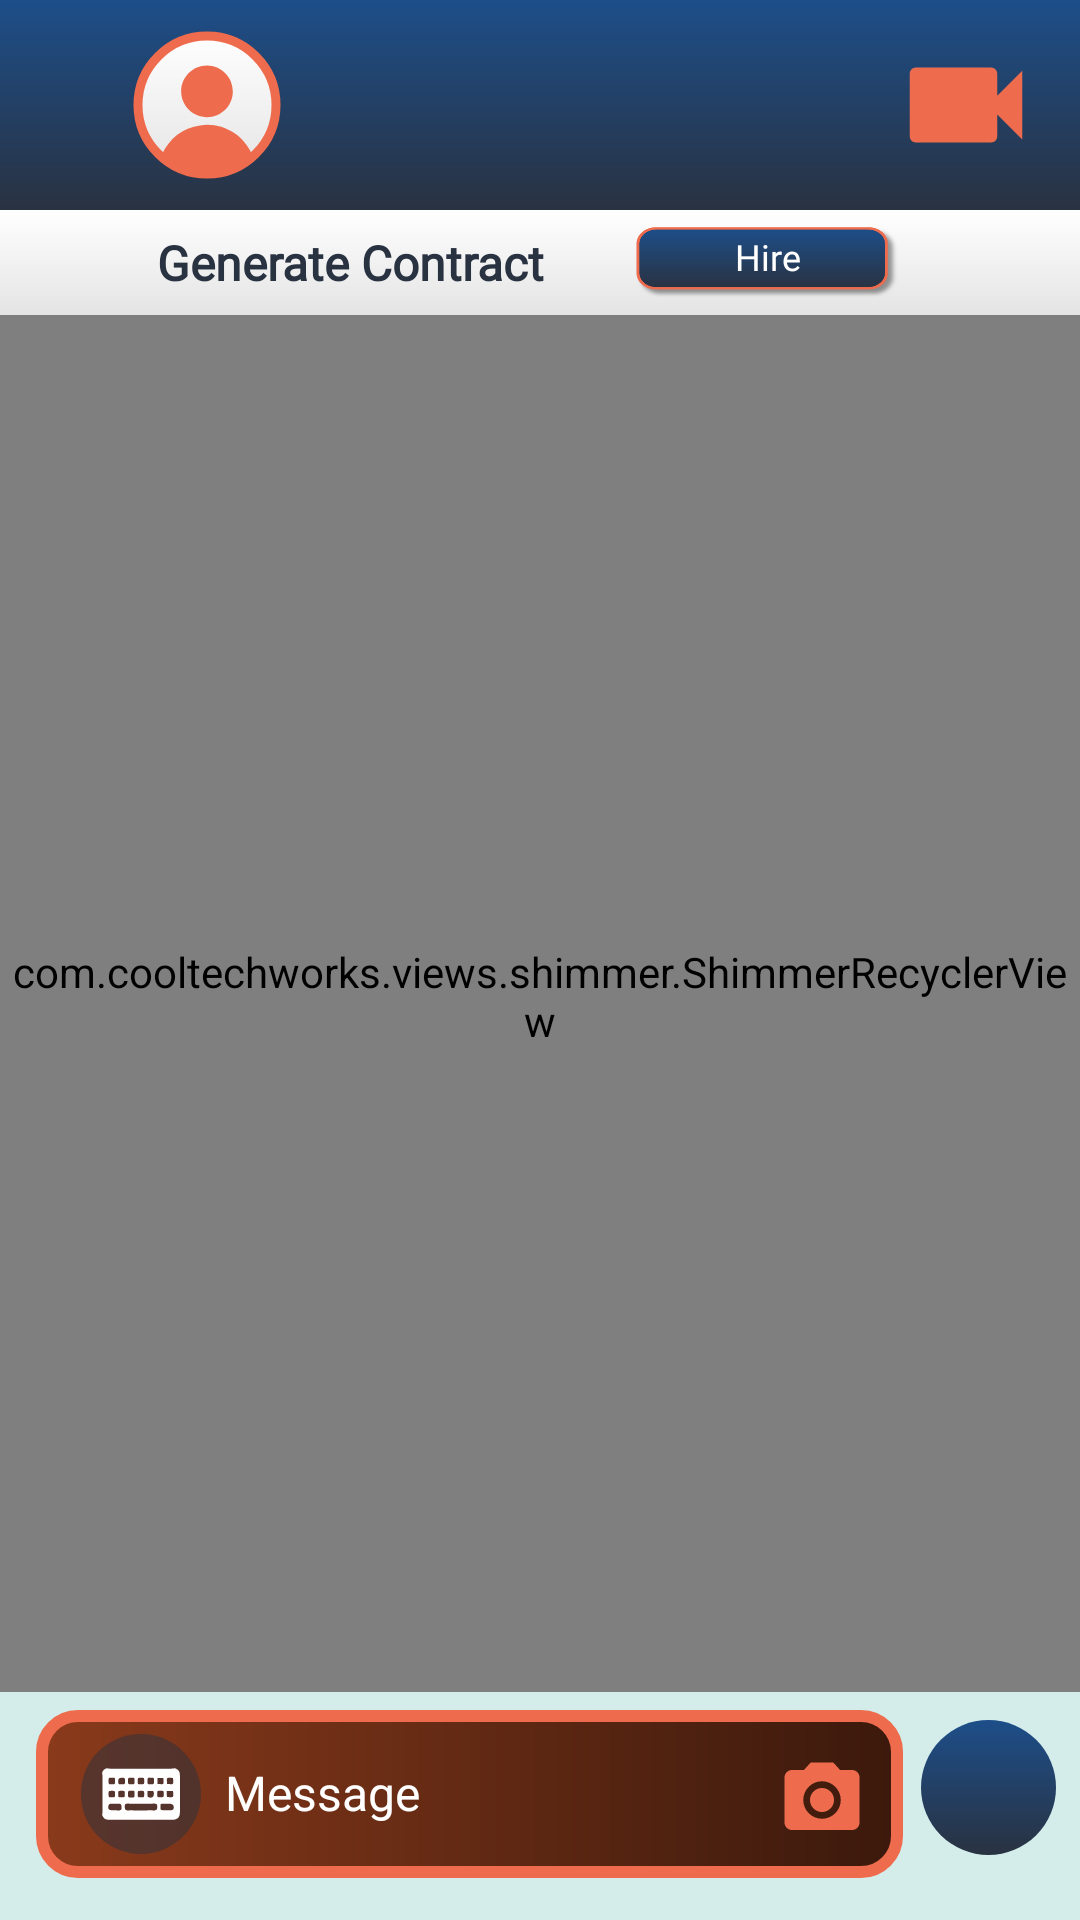

Point at icon controls on the screen. Image size 1080px×1920px, points as (x,y).
call list videocam: (966,105)
photo camera: (822,1796)
